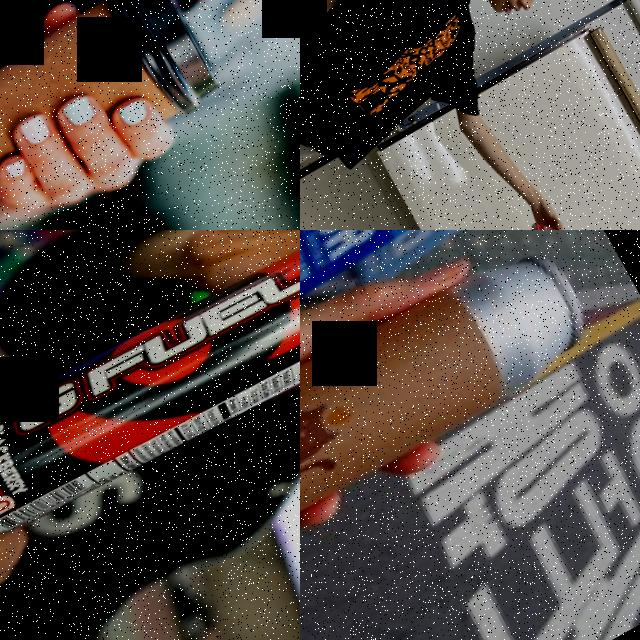can: (300, 230, 610, 627), (0, 230, 300, 564), (522, 202, 598, 230)
cup: (0, 0, 231, 230)
